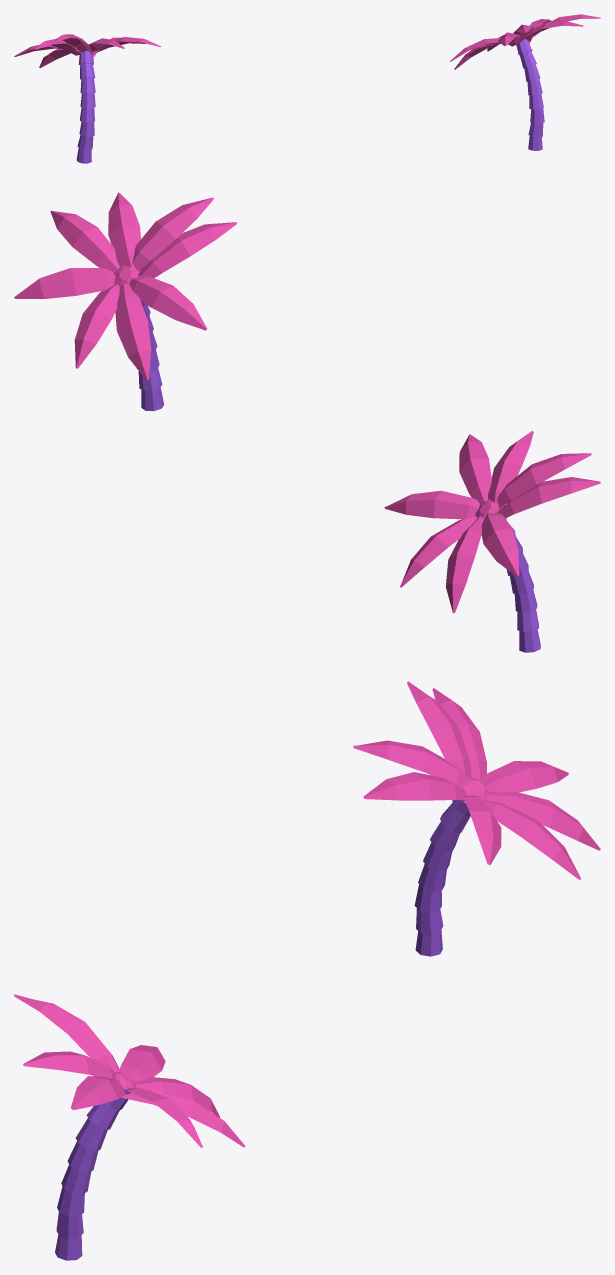
The model's file is palme.gltf.
The picture shows the model from 3 angles, top to bottom: view 1: azimuth 30°, elevation 25°; view 2: azimuth 150°, elevation 25°; view 3: azimuth 270°, elevation 25°; orthographic projection. The views are drawn at different scales.
Visible parts, largest first — view 1: Object_39.001, Object_39; view 2: Object_39, Object_39.001; view 3: Object_39.001, Object_39.
Part boxes in pixels (x1=…): Object_39.001: x1=14, y1=34, x2=160, y2=163; Object_39: x1=450, y1=14, x2=600, y2=150; Object_39: x1=14, y1=192, x2=236, y2=411; Object_39.001: x1=384, y1=431, x2=600, y2=652; Object_39.001: x1=353, y1=681, x2=600, y2=956; Object_39: x1=14, y1=994, x2=245, y2=1260.
Bounding box in the file's own units: 26.27 × 7.26 × 16.05.
